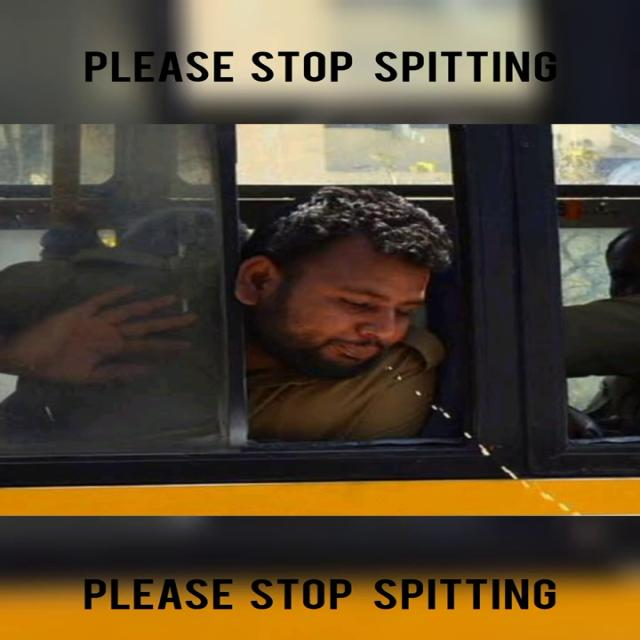spit: (279, 184, 637, 563)
